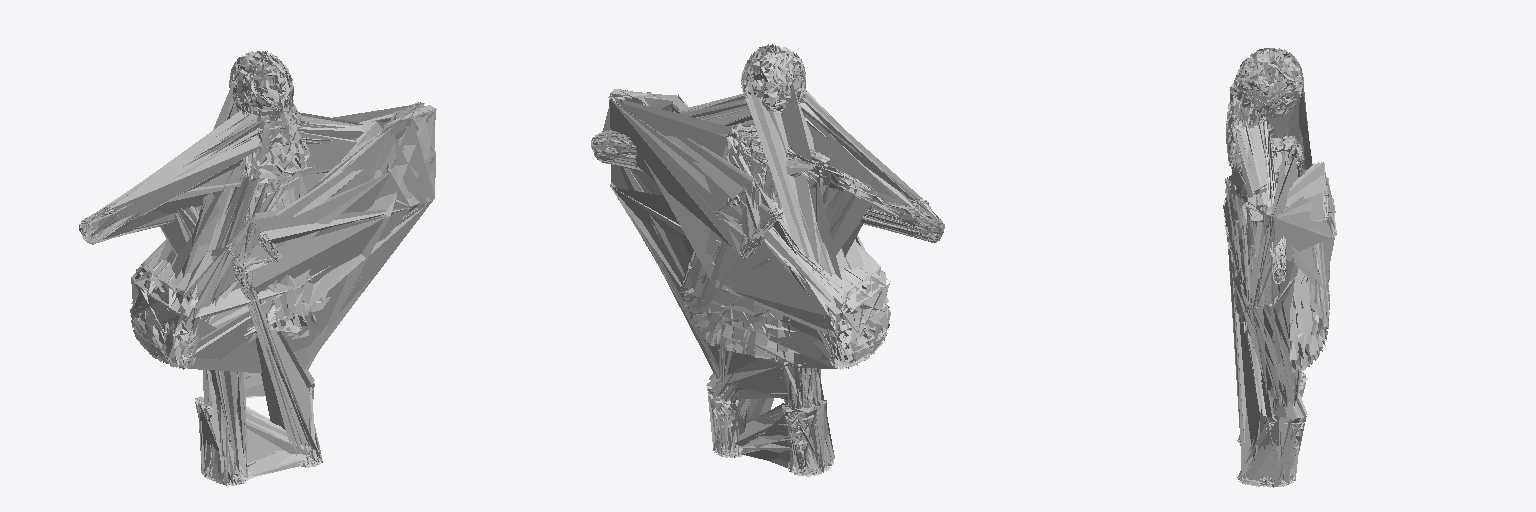
File: MageForZbrush.obj
The picture shows the model from 3 angles: view 1: azimuth 30°, elevation 25°; view 2: azimuth 150°, elevation 25°; view 3: azimuth 270°, elevation 25°; orthographic projection.
Parts seen in each view (by area): view 1: alchemist_Body Geo Rig_MAGE; view 2: alchemist_Body Geo Rig_MAGE; view 3: alchemist_Body Geo Rig_MAGE.
Part boxes in pixels (x1,y1,x2,y2): alchemist_Body Geo Rig_MAGE: (79, 51, 436, 485); alchemist_Body Geo Rig_MAGE: (591, 44, 944, 476); alchemist_Body Geo Rig_MAGE: (1223, 48, 1336, 487).
Bounding box in the file's own units: 162 × 180 × 45.34.